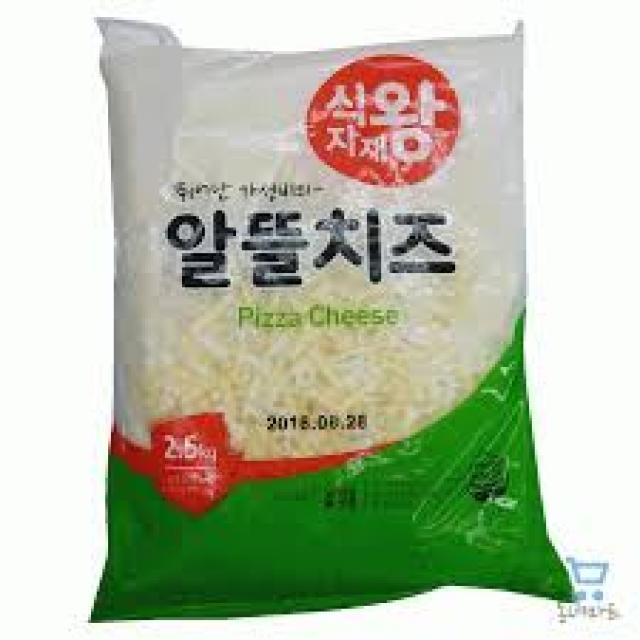Cheese: (105, 34, 548, 595)
